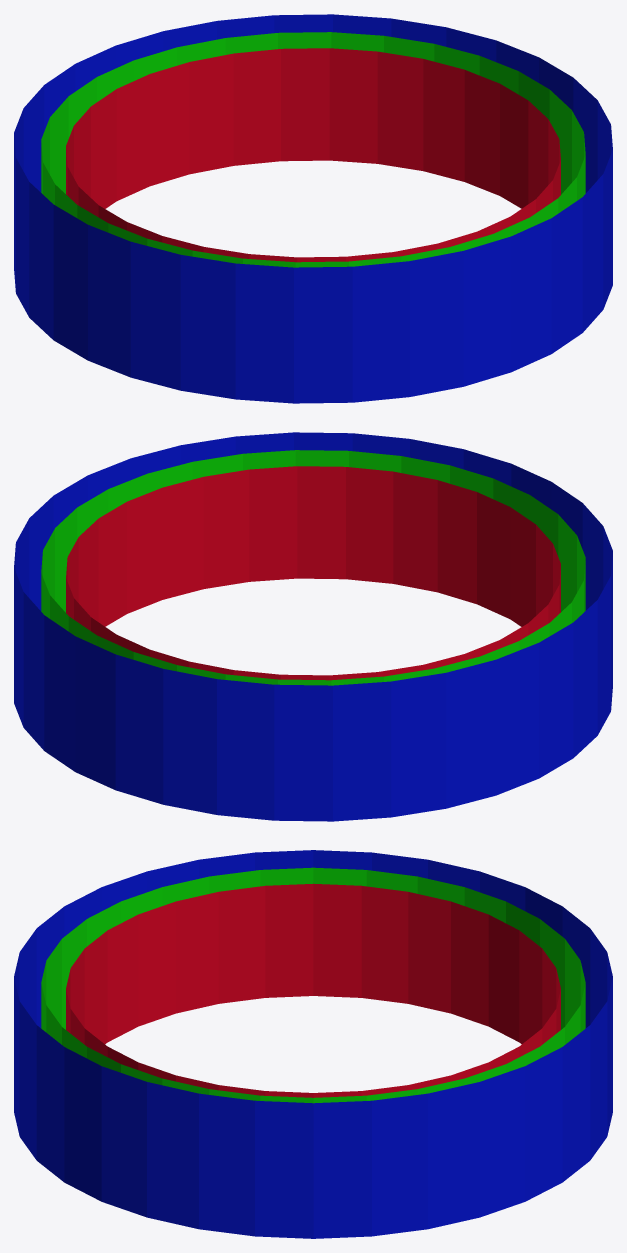
The picture shows the model from 3 angles, top to bottom: view 1: azimuth 30°, elevation 25°; view 2: azimuth 150°, elevation 25°; view 3: azimuth 270°, elevation 25°; orthographic projection.
Visible parts, largest first — view 1: Circle; view 2: Circle; view 3: Circle.
Boxes of the visible parts, box(x1,y1,x2,y2) form: Circle: box(14, 14, 612, 403); Circle: box(14, 432, 612, 821); Circle: box(14, 850, 612, 1238).
Size of the model in its own units: 242 by 60.5 by 242.
